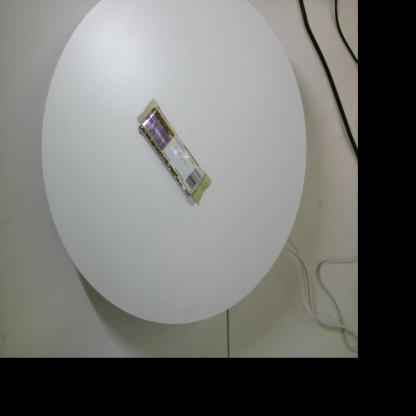Chocolate: (137, 98, 212, 206)
